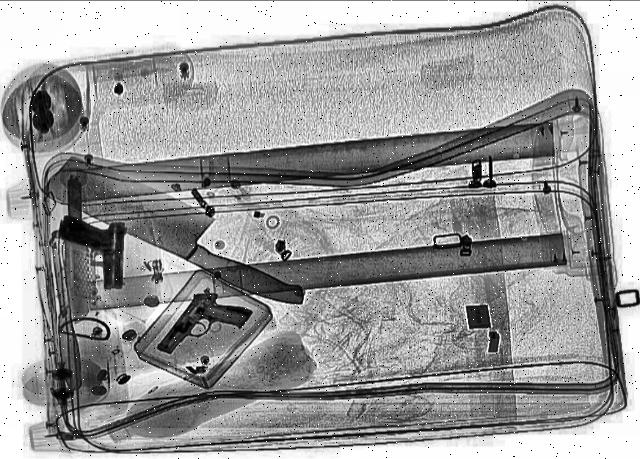Gun: (150, 286, 258, 368), (55, 214, 125, 288)
Knife: (33, 150, 335, 310), (31, 180, 83, 390), (52, 177, 96, 320)
